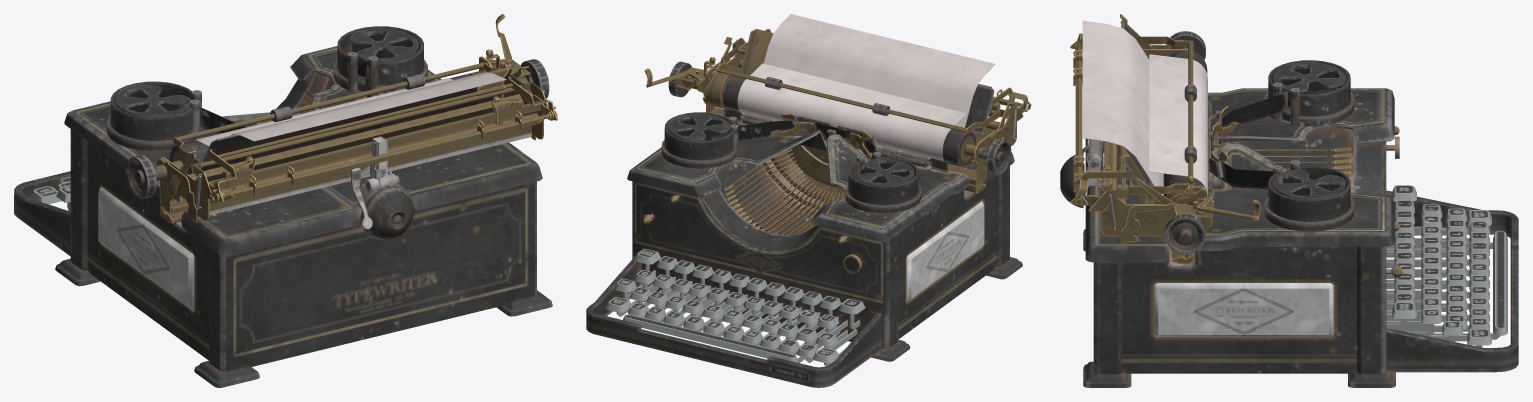
The model's file is typewriter.glb.
3 renders of one model, left to right at view 1: azimuth 30°, elevation 25°; view 2: azimuth 150°, elevation 25°; view 3: azimuth 270°, elevation 25°, orthographic. The views are drawn at different scales.
Parts seen in each view (by area): view 1: typewriter; view 2: typewriter; view 3: typewriter.
Boxes of the visible parts, left/top/right/bottom form: typewriter: left=14, top=14, right=557, bottom=387; typewriter: left=586, top=14, right=1031, bottom=387; typewriter: left=1060, top=14, right=1518, bottom=387.
Bounding box in the file's own units: 0.455 × 0.2538 × 0.4633.
Materials: 2 (2 with a texture image).
